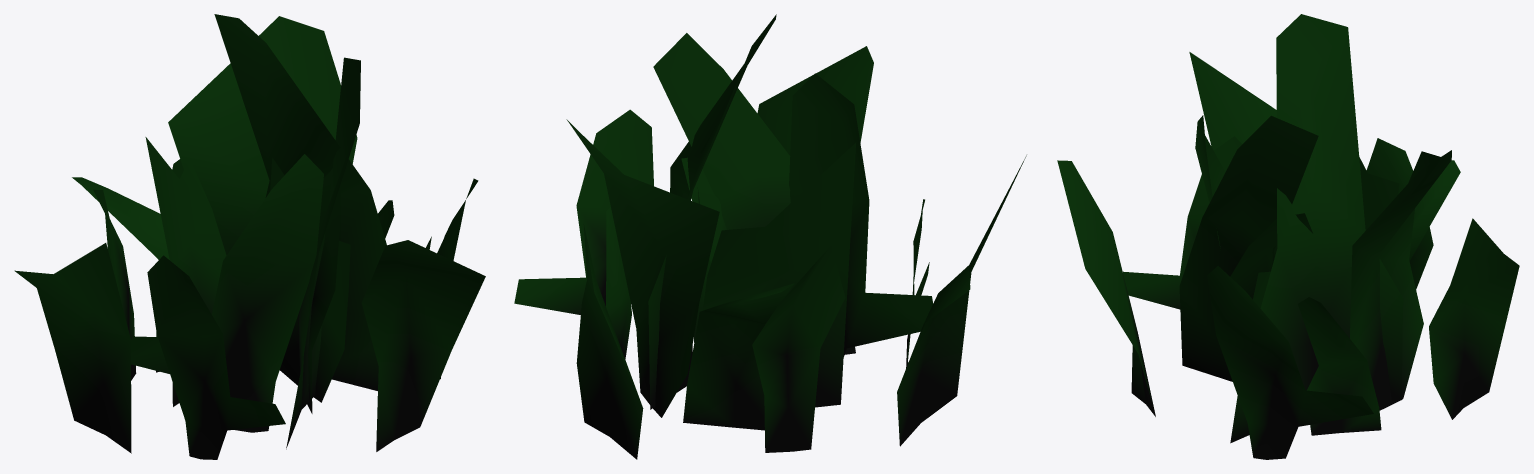
Rendered from GrassTallDryGCATA_B.fbx.
3 views of the same model, side by side, from view 1: azimuth 30°, elevation 25°; view 2: azimuth 150°, elevation 25°; view 3: azimuth 270°, elevation 25° (orthographic). The views are drawn at different scales.
Parts seen in each view (by area): view 1: GTDB_LOD0; view 2: GTDB_LOD0; view 3: GTDB_LOD0.
Boxes of the visible parts, box(x1,y1,x2,y2) form: GTDB_LOD0: box(14, 14, 485, 459); GTDB_LOD0: box(514, 14, 1026, 459); GTDB_LOD0: box(1057, 14, 1519, 459).
Size of what is drawn, in the model's own units: 2.49 by 2.13 by 2.44.
